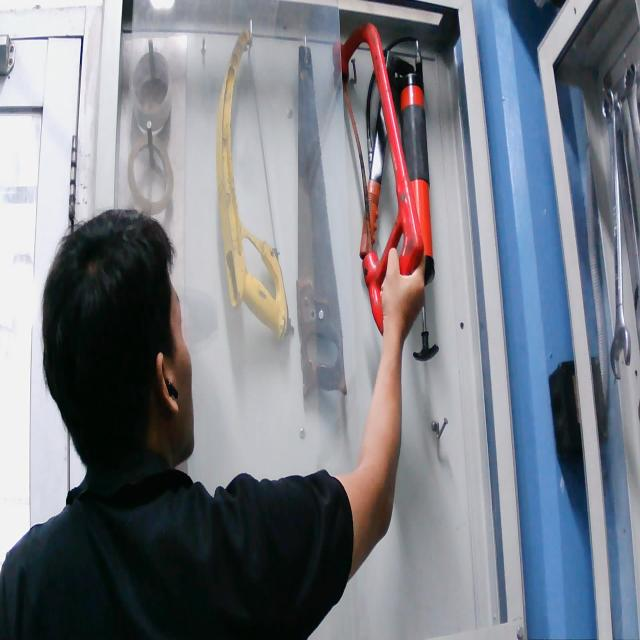gergaji_besi: (333, 20, 428, 343)
